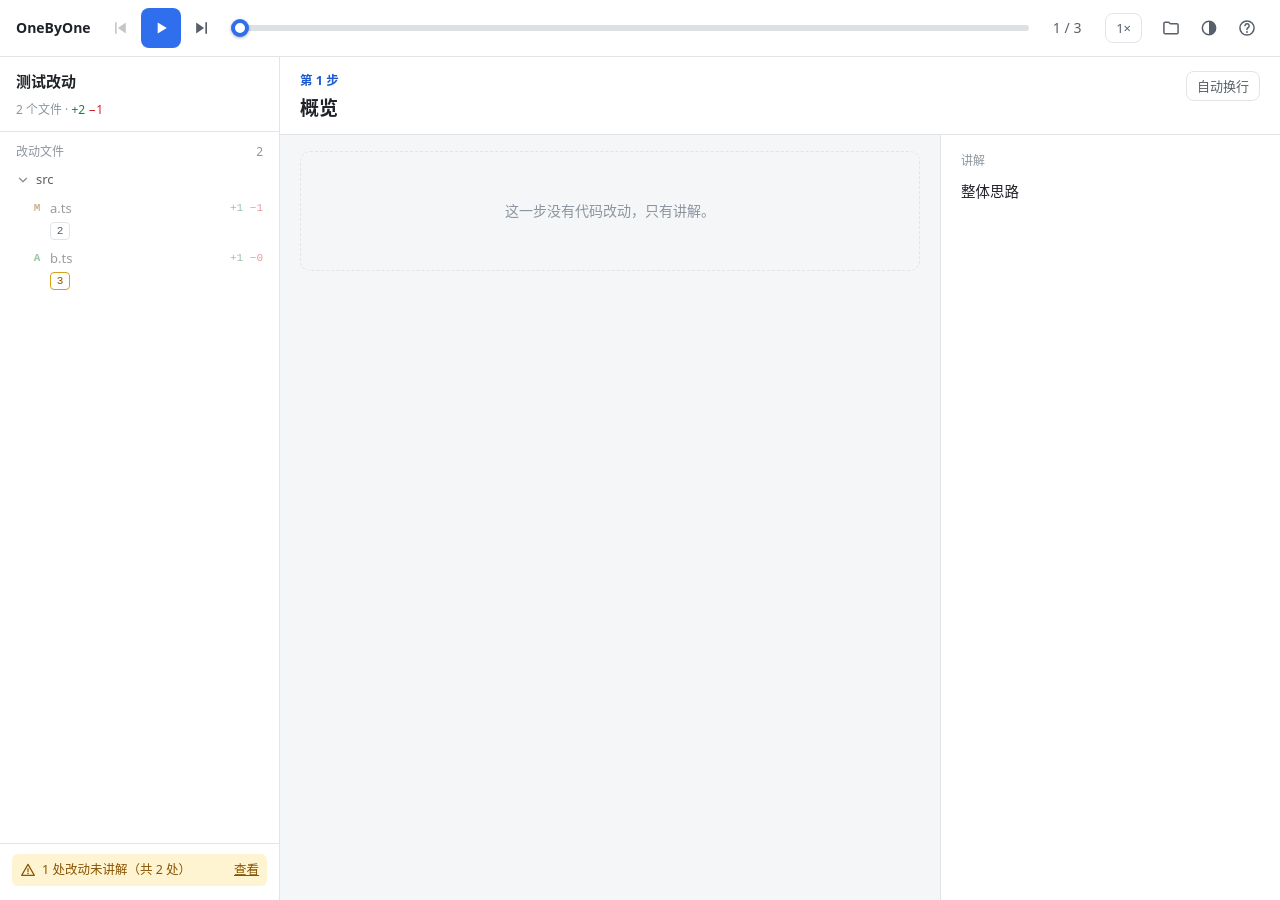
Test case: App › 点击文件树里的文件会跳到涉及它的步骤
Expected: the heading "概览" is shown, [300,95,338,121]
Click the element titled "src/a.ts": (37, 208) [8,194,271,244]
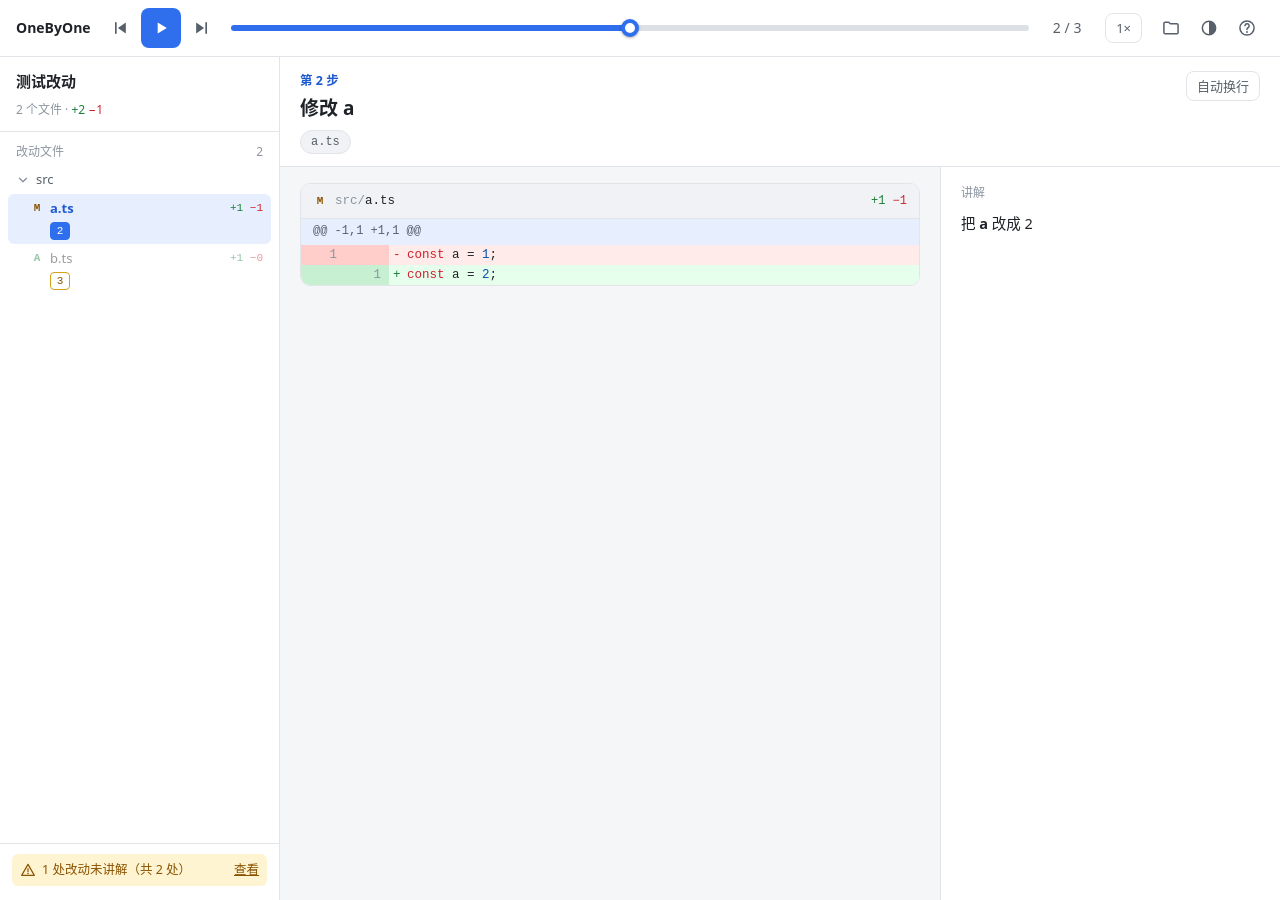
Result: the heading "修改 a" is shown at [300,95,354,121]
